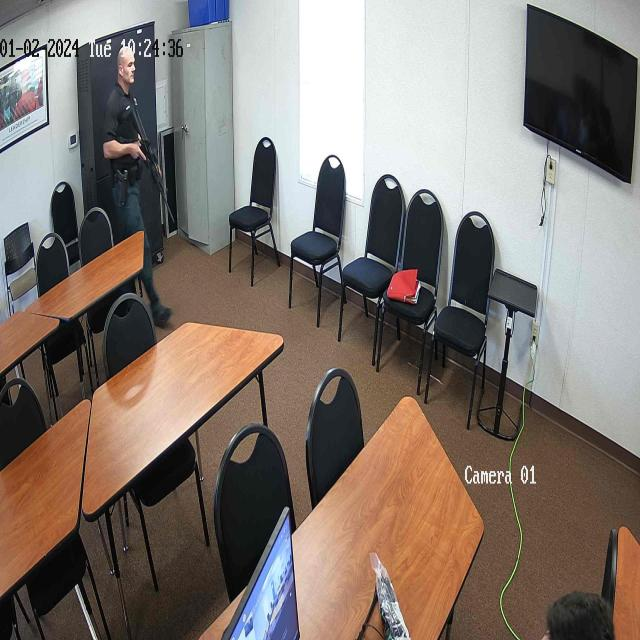weapon: (129, 96, 176, 226), (117, 174, 127, 207)
